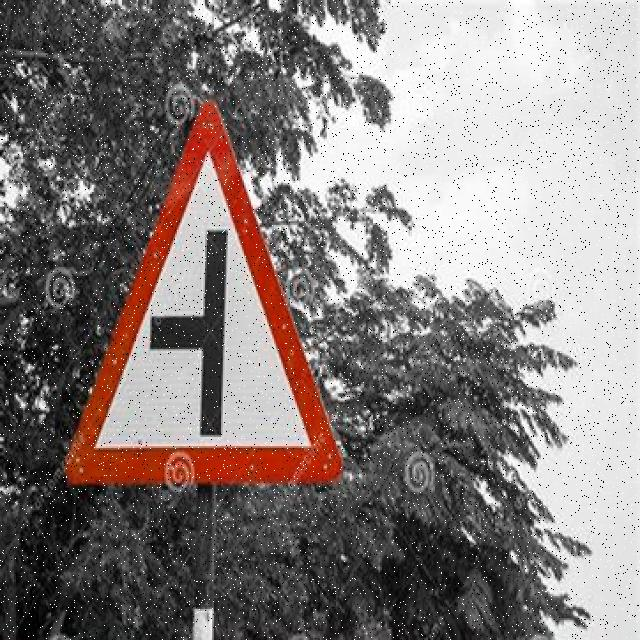Sideroad_toleft: (60, 101, 350, 481)
